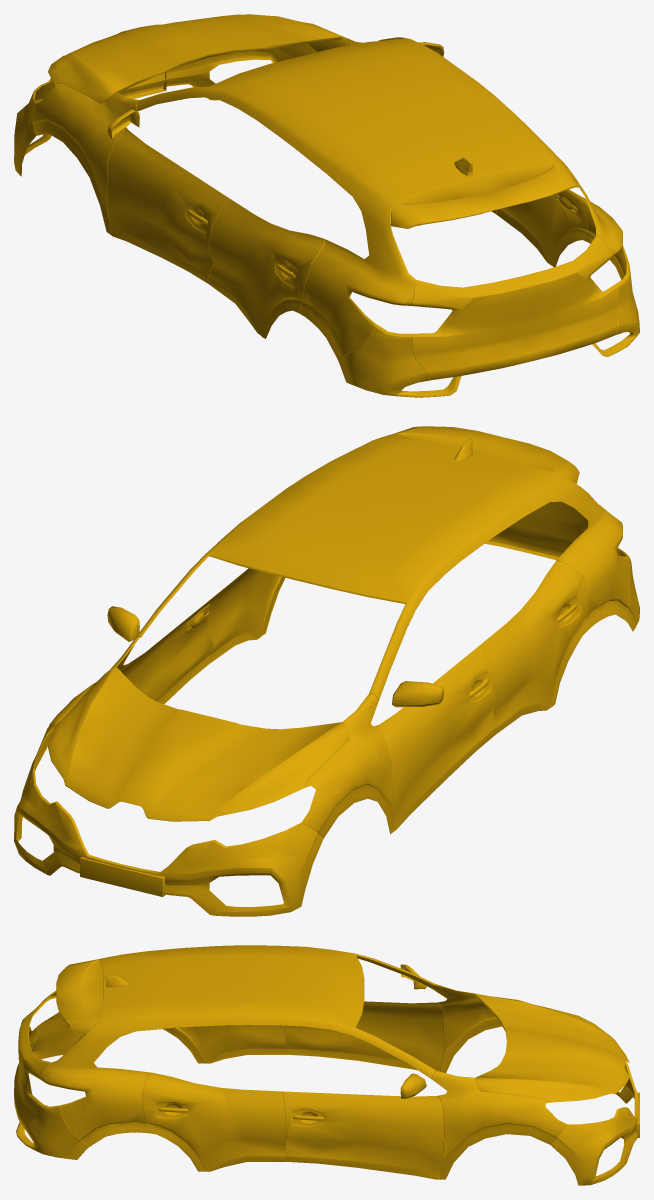
Rendered from yellowKadjar.fbx.
The picture shows the model from 3 angles, top to bottom: view 1: azimuth 30°, elevation 25°; view 2: azimuth 150°, elevation 25°; view 3: azimuth 270°, elevation 25°; orthographic projection. The views are drawn at different scales.
Visible parts, largest first — view 1: Null_2; view 2: Null_2; view 3: Null_2.
Boxes of the visible parts, x1=… form: Null_2: x1=14, y1=14, x2=639, y2=397; Null_2: x1=14, y1=426, x2=639, y2=916; Null_2: x1=14, y1=945, x2=639, y2=1185.
Bounding box in the file's own units: 125 × 74.58 × 267.
